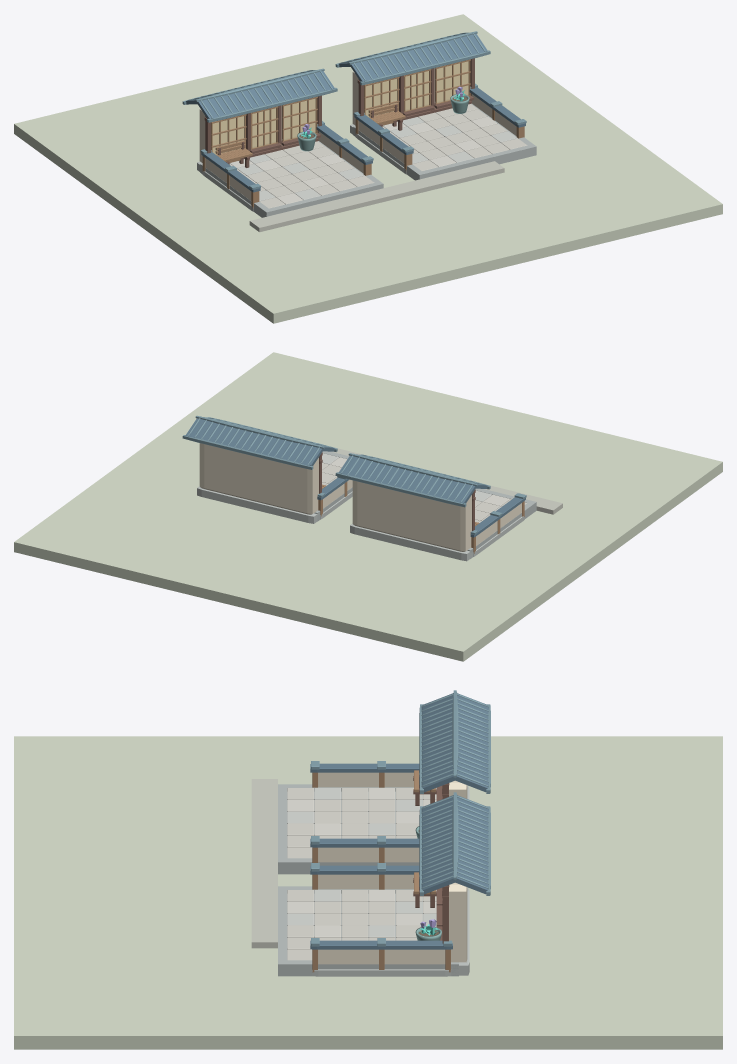
File: gggame_courtyard_paving_soft_v3_02.glb
The picture shows the model from 3 angles, top to bottom: view 1: azimuth 30°, elevation 25°; view 2: azimuth 150°, elevation 25°; view 3: azimuth 270°, elevation 25°; orthographic projection. The views are drawn at different scales.
Visible parts, largest first — view 1: ground, home-1-decor, home-0-decor, home-1-floor, home-0-floor, walkway-row-0-1, walkway-row-0-0; view 2: ground, home-0-decor, home-1-decor, home-0-floor, home-1-floor, walkway-row-0-0; view 3: ground, home-1-decor, home-0-decor, home-1-floor, home-0-floor, walkway-row-0-1, walkway-row-0-0, home-1-entry-step, home-0-entry-step.
Boxes of the visible parts, bbox=[...] form: ground: bbox=[14, 14, 722, 323]; home-1-decor: bbox=[335, 31, 526, 174]; home-0-decor: bbox=[182, 68, 373, 211]; home-1-floor: bbox=[353, 103, 536, 180]; home-0-floor: bbox=[200, 141, 383, 217]; walkway-row-0-1: bbox=[342, 169, 470, 209]; walkway-row-0-0: bbox=[249, 206, 317, 232]; ground: bbox=[14, 352, 722, 661]; home-0-decor: bbox=[335, 453, 526, 561]; home-1-decor: bbox=[182, 415, 352, 523]; home-0-floor: bbox=[467, 488, 536, 558]; home-1-floor: bbox=[314, 451, 352, 521]; walkway-row-0-0: bbox=[499, 489, 562, 514]; ground: bbox=[14, 736, 722, 1049]; home-1-decor: bbox=[310, 792, 490, 976]; home-0-decor: bbox=[310, 690, 490, 862]; home-1-floor: bbox=[278, 886, 458, 976]; home-0-floor: bbox=[278, 784, 436, 874]; walkway-row-0-1: bbox=[251, 840, 277, 919]; walkway-row-0-0: bbox=[251, 779, 277, 817]; home-1-entry-step: bbox=[251, 920, 277, 948]; home-0-entry-step: bbox=[251, 818, 277, 840].
Bounding box in the file's own units: 18.8 × 3.43 × 18.8.
